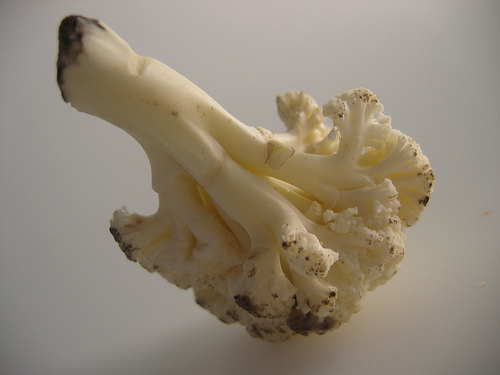cauliflower: (55, 14, 436, 343)
